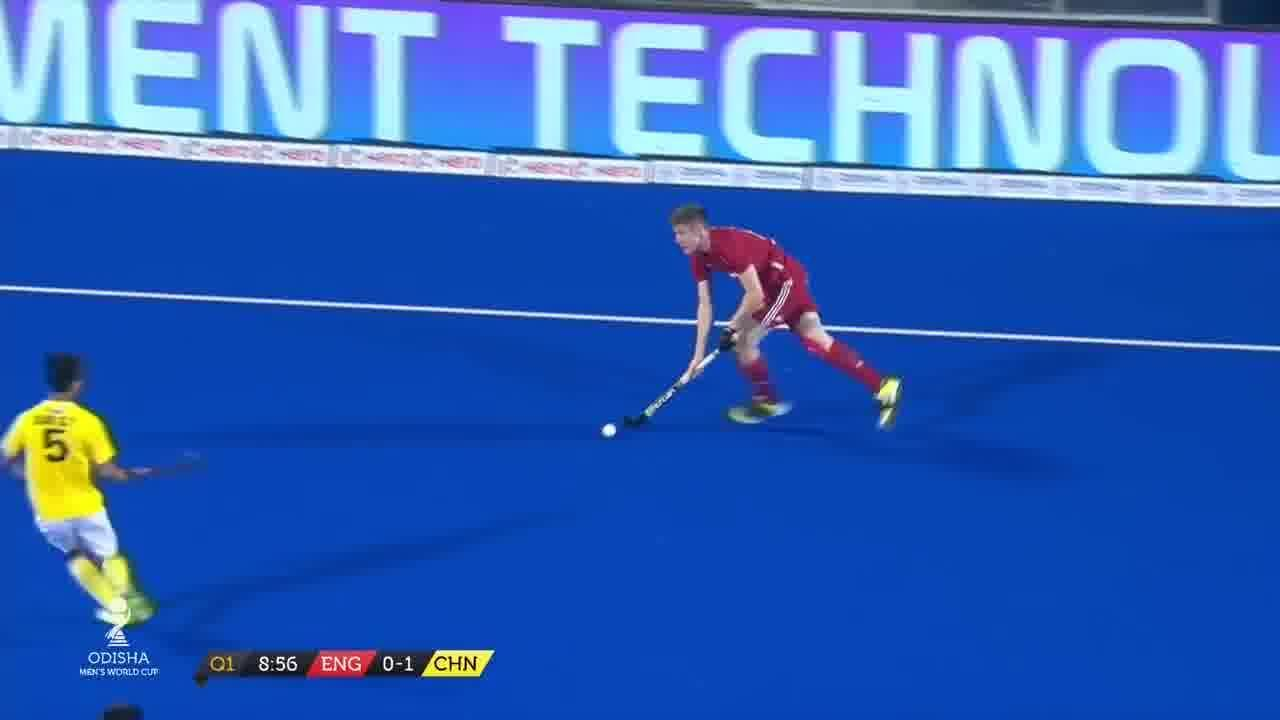ball: (603, 417, 630, 443)
